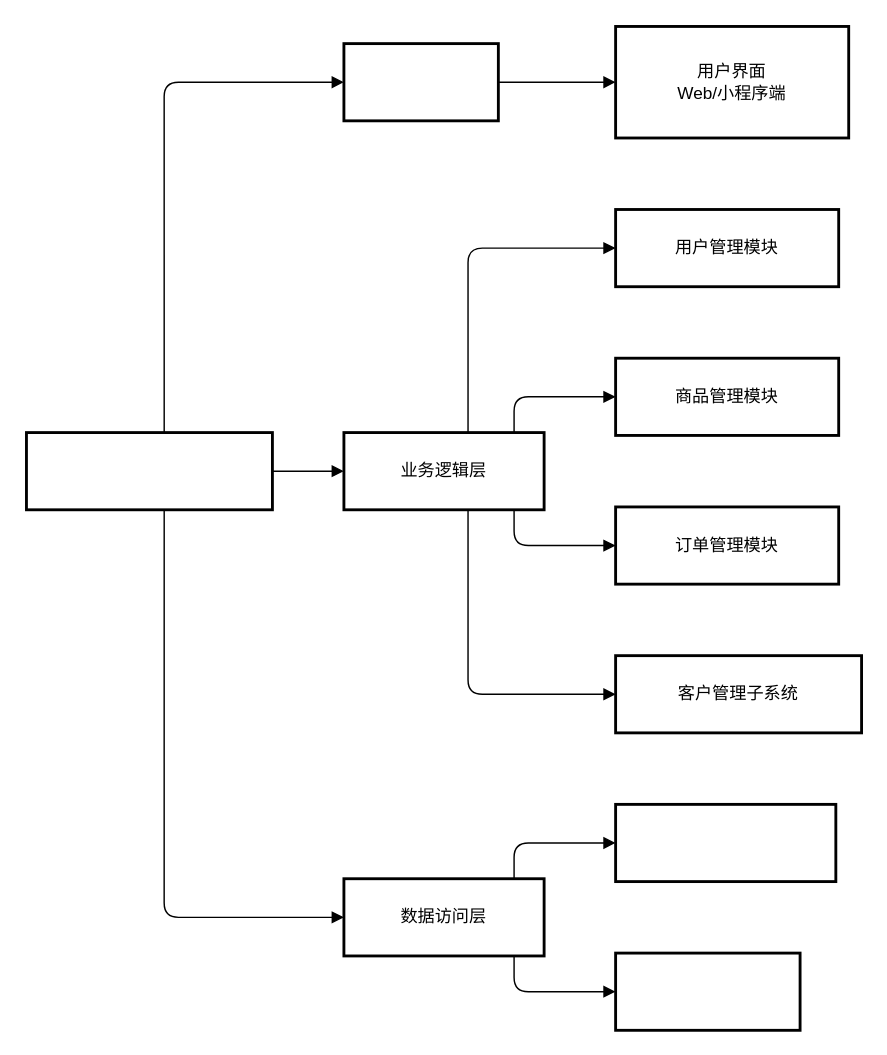
Image size: 887x1055. Some labels were removed from this diagram. The centre of each missing label's shape, as x and y in pixels:
MySQL数据库: [725,842]
Redis缓存: [707,991]
大学生交易平台: [148,470]
表示层: [420,81]
